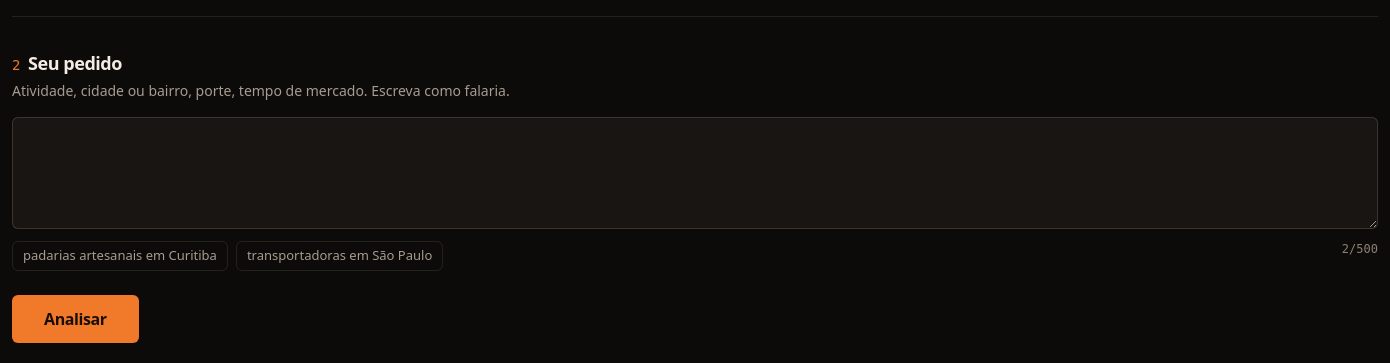
Scenario: RequestForm › bloqueia envio vazio e mostra aviso
Click the button "Analisar" at (75,318), box [12,294,139,342]
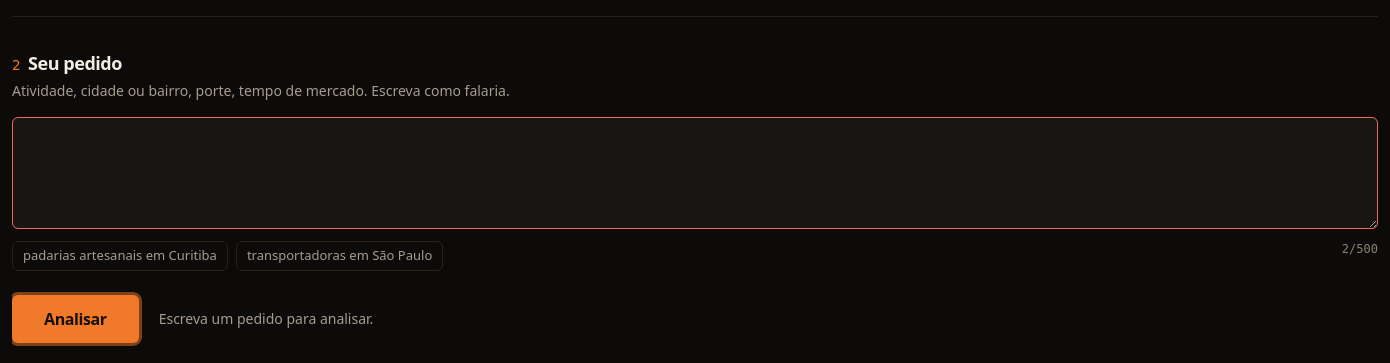
Expected: the message shows "Escreva um pedido", [159,308,373,328]
